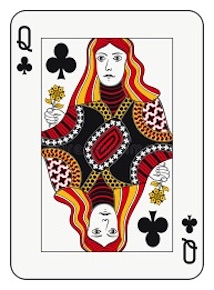QueenOfClubs: (9, 6, 206, 283)
